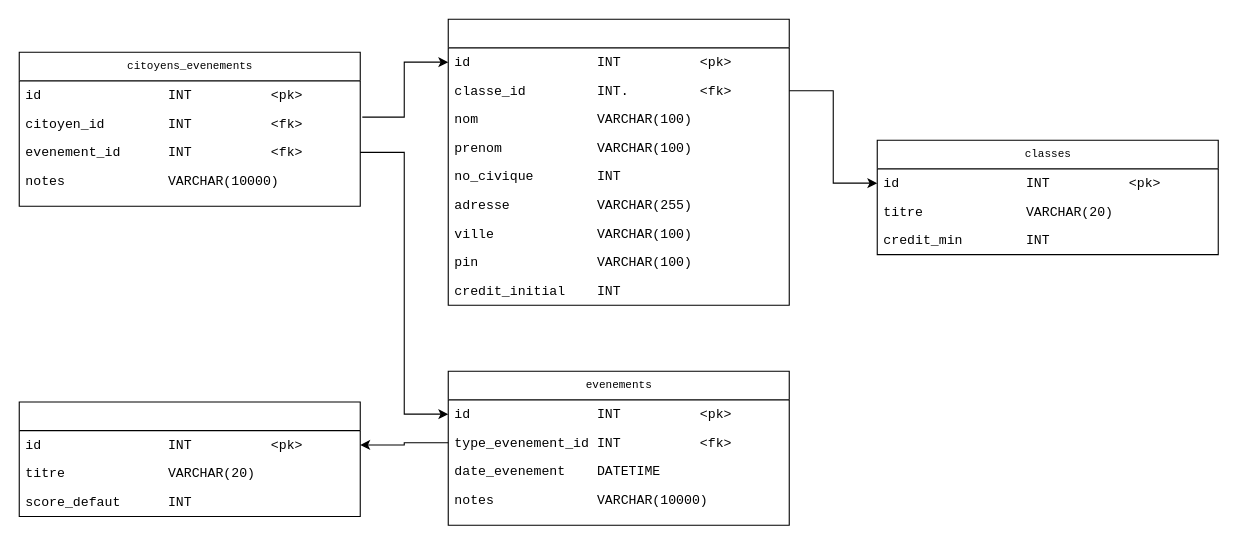
Some shapes in this 1238 by 545 pixel diagram are drawn without their labels. Here are the shapes that lost their labels. From the top down, the box of each, then its label:
(447, 18, 789, 305): citoyens
(18, 401, 360, 516): evenements_types
